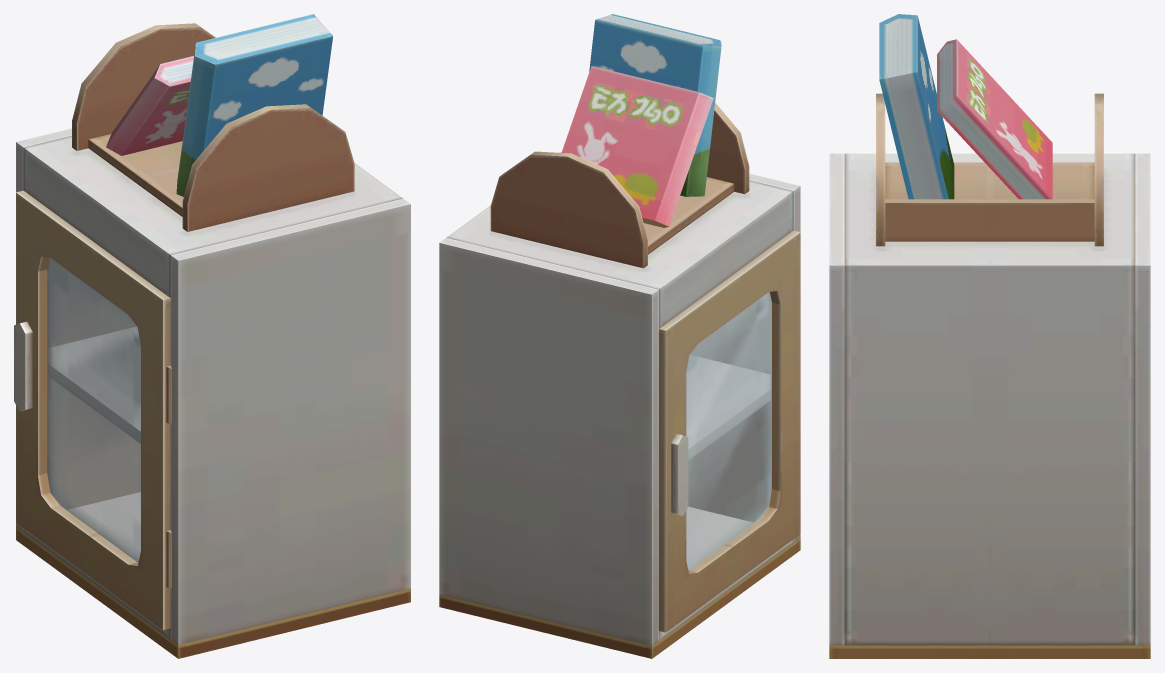
The model's file is my_shoppingmall_01_cabinet_01.glb.
3 renders of one model, left to right at view 1: azimuth 30°, elevation 25°; view 2: azimuth 150°, elevation 25°; view 3: azimuth 270°, elevation 25°, orthographic. The views are drawn at different scales.
Parts seen in each view (by area): view 1: my_shoppingmall_01_cabinet_01, my_shoppingmall_01_cabinet_01_a; view 2: my_shoppingmall_01_cabinet_01, my_shoppingmall_01_cabinet_01_a; view 3: my_shoppingmall_01_cabinet_01.
Boxes of the visible parts, x1,y1,x2,y2 form: my_shoppingmall_01_cabinet_01: (14,14,410,658); my_shoppingmall_01_cabinet_01_a: (47,258,140,562); my_shoppingmall_01_cabinet_01: (439,14,800,658); my_shoppingmall_01_cabinet_01_a: (686,292,771,570); my_shoppingmall_01_cabinet_01: (829,14,1150,658).
Bounding box in the file's own units: 0.00295 × 0.00648 × 0.00336.
Materials: 2 (2 with a texture image).
